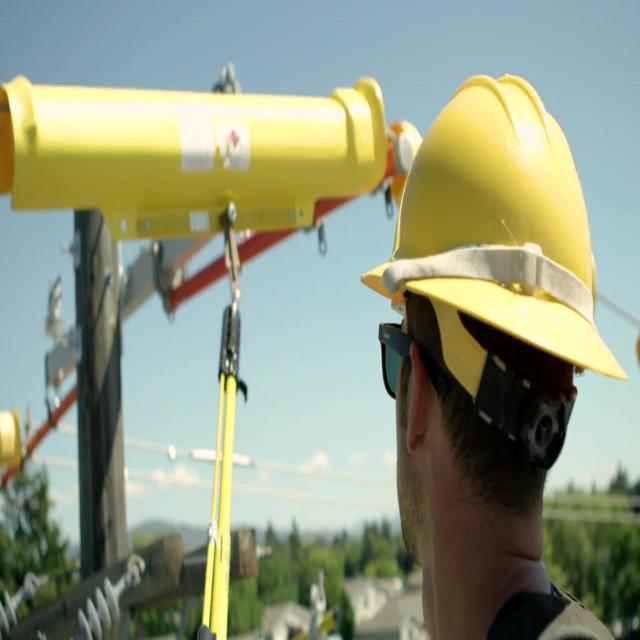Safety-Helmet: (363, 70, 621, 383)
